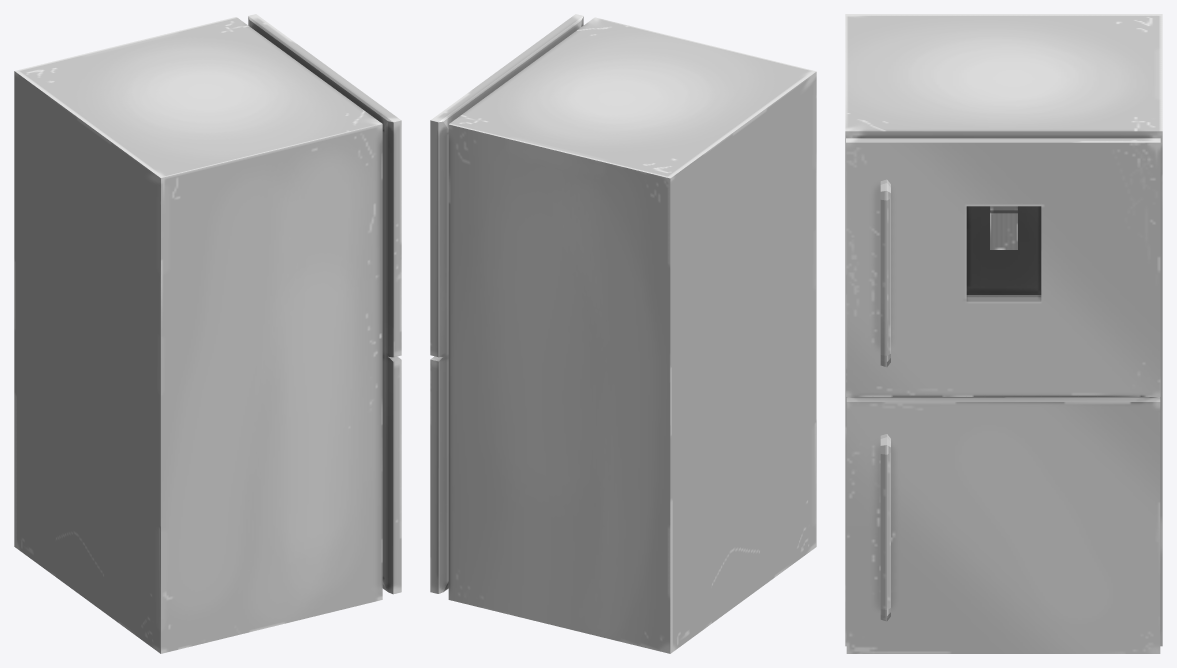
Rendered from fridge.fbx.
The picture shows the model from 3 angles, left to right: view 1: azimuth 30°, elevation 25°; view 2: azimuth 150°, elevation 25°; view 3: azimuth 270°, elevation 25°; orthographic projection. The views are drawn at different scales.
Visible parts, largest first — view 1: Cylinder.002; view 2: Cylinder.002; view 3: Cylinder.002.
Boxes of the visible parts, x1,y1,x2,y2 form: Cylinder.002: [14, 14, 401, 653]; Cylinder.002: [430, 14, 816, 653]; Cylinder.002: [845, 14, 1162, 653].
Size of the model in its own units: 117 by 209 by 117.
